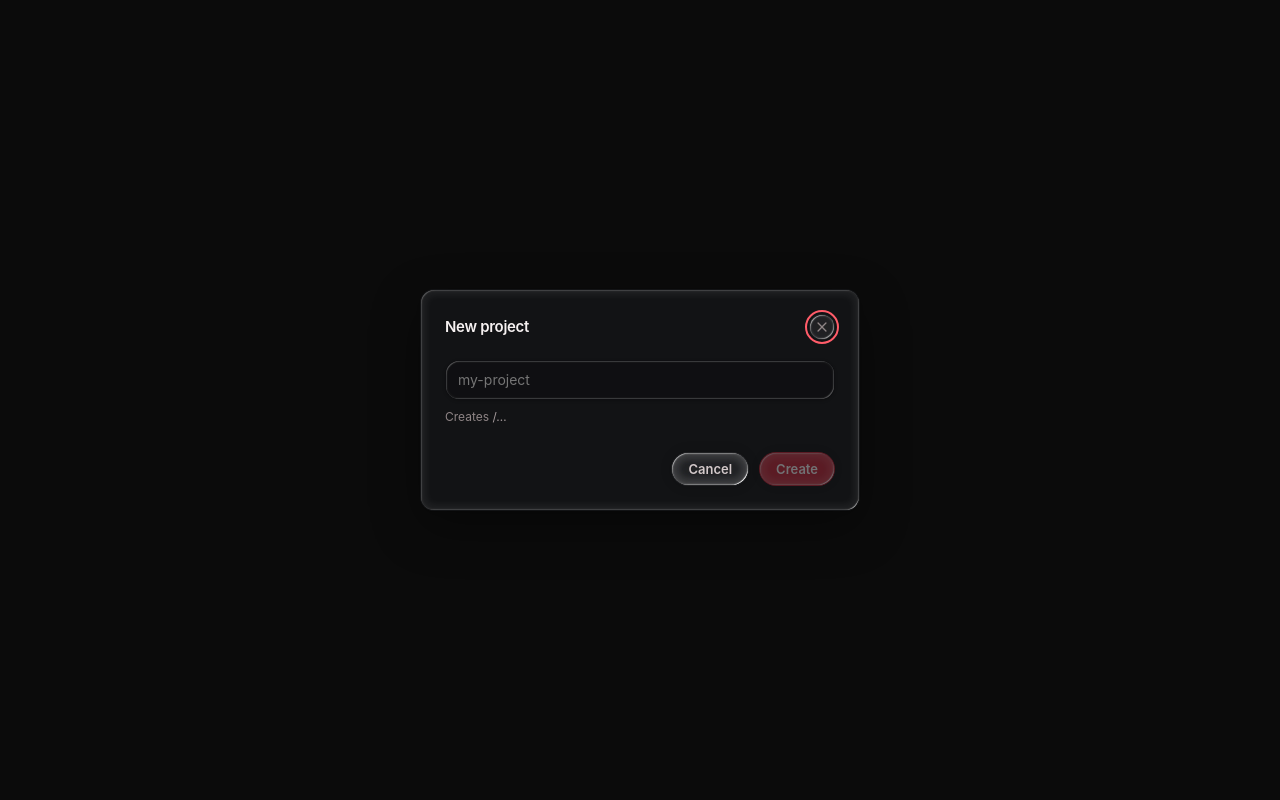
Test: NewProjectModal › does not offer to open before the projects folder is known
Type "test" into the field with placeholder "my-project". click: (640, 380)
box: [445, 360, 835, 400]
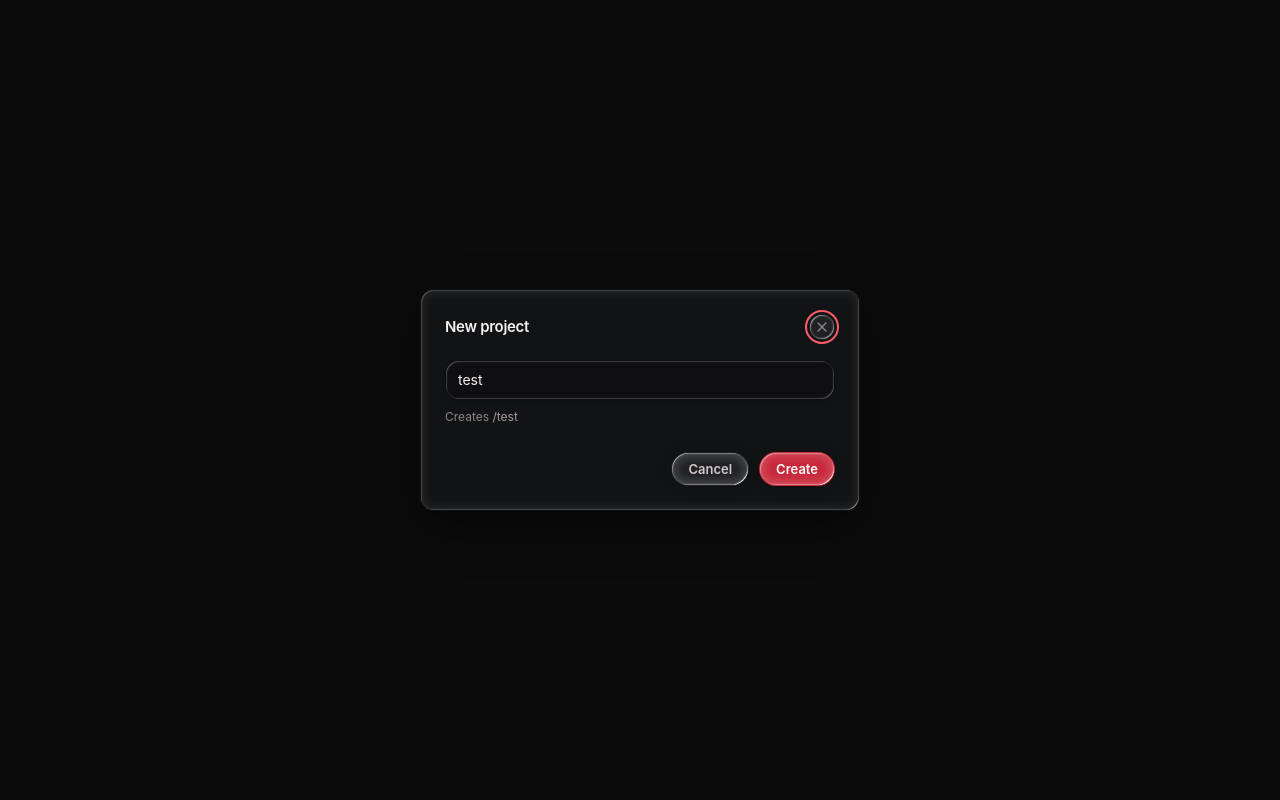
Click the button "Create". click: (797, 469)
box: [759, 452, 835, 486]
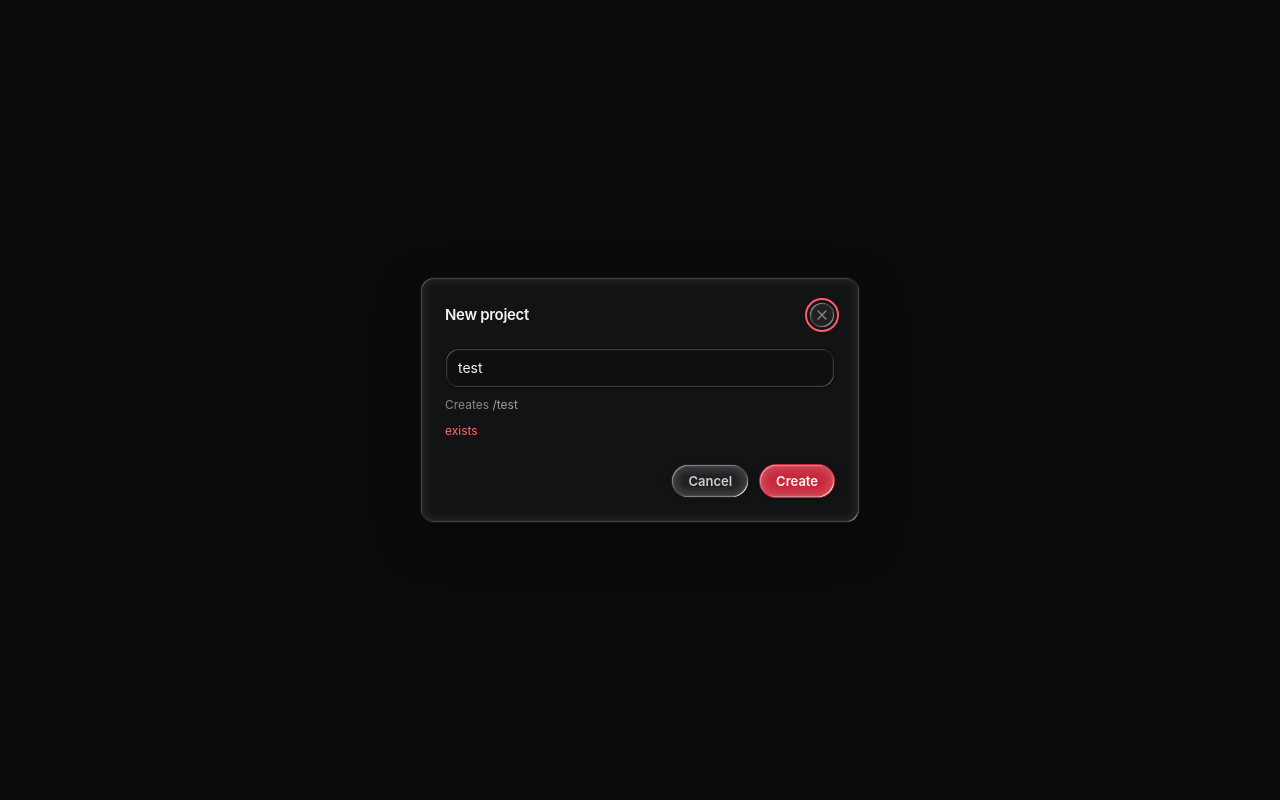
Expected: the message reads "exists", [445, 423, 478, 438]
